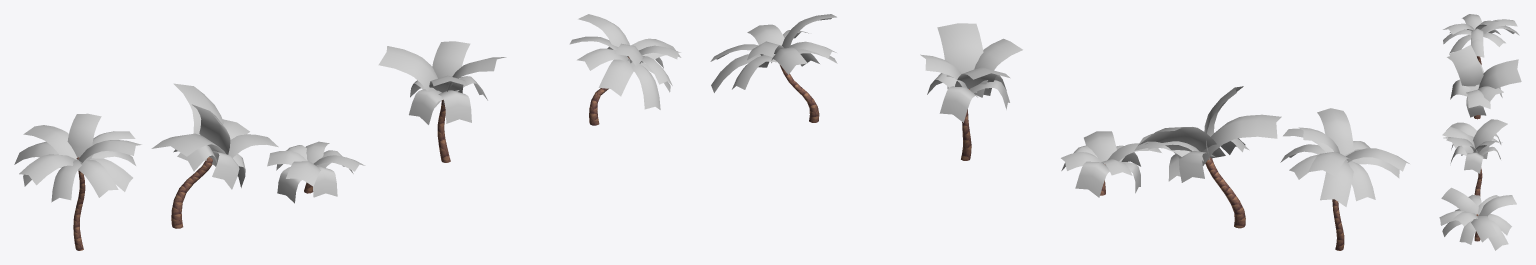
Rendered from palm trees.dae.
3 views of the same model, side by side, from view 1: azimuth 30°, elevation 25°; view 2: azimuth 150°, elevation 25°; view 3: azimuth 270°, elevation 25° (orthographic). The views are drawn at different scales.
Visible parts, largest first — view 1: PalmTree_1, PalmTree_3, PalmTree_2, PalmTree_4, PalmTree_5; view 2: PalmTree_1, PalmTree_3, PalmTree_2, PalmTree_4, PalmTree_5; view 3: PalmTree_4, PalmTree_2, PalmTree_3, PalmTree_1, PalmTree_5.
Boxes of the visible parts, x1,y1,x2,y2 form: PalmTree_1: [14, 113, 141, 250]; PalmTree_3: [378, 41, 506, 162]; PalmTree_2: [151, 83, 278, 228]; PalmTree_4: [569, 14, 681, 125]; PalmTree_5: [267, 141, 365, 203]; PalmTree_1: [1280, 108, 1409, 250]; PalmTree_3: [920, 23, 1022, 160]; PalmTree_2: [1134, 86, 1281, 228]; PalmTree_4: [710, 14, 837, 122]; PalmTree_5: [1061, 131, 1161, 197]; PalmTree_4: [1439, 187, 1516, 250]; PalmTree_2: [1447, 45, 1521, 119]; PalmTree_3: [1442, 119, 1507, 196]; PalmTree_1: [1443, 14, 1519, 64]; PalmTree_5: [1446, 122, 1501, 149].
Size of the model in its own units: 0.296 by 0.0524 by 0.0528.
